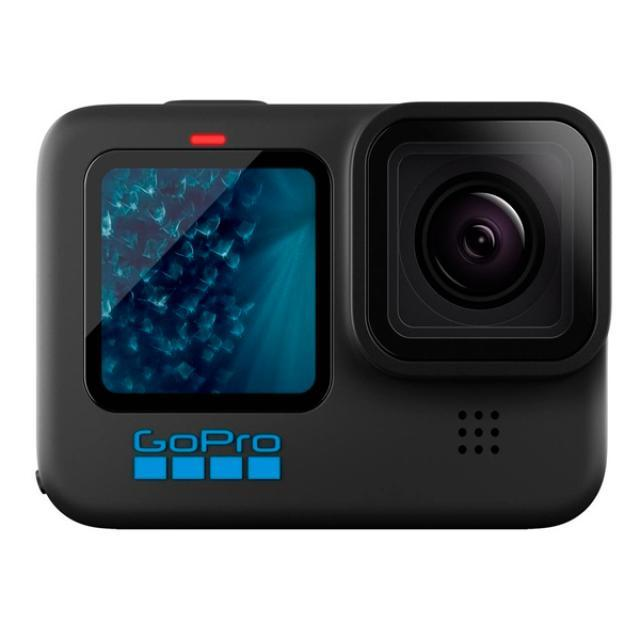hidden camera: (359, 103, 607, 378)
